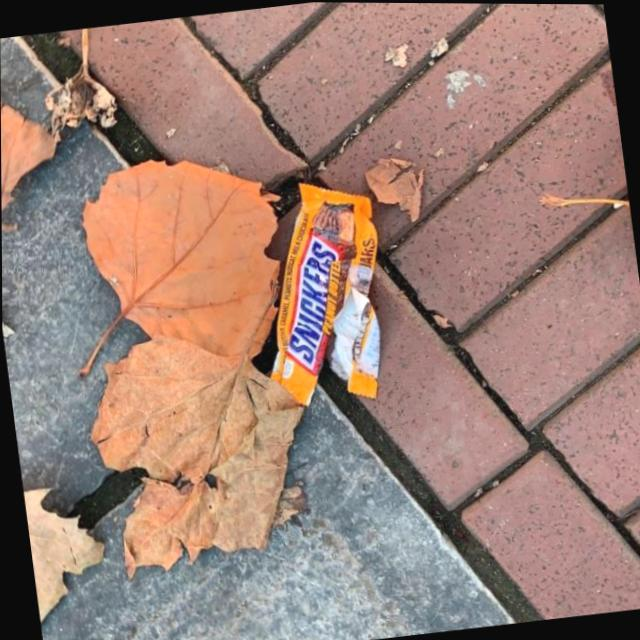Plastic: (241, 167, 403, 414)
